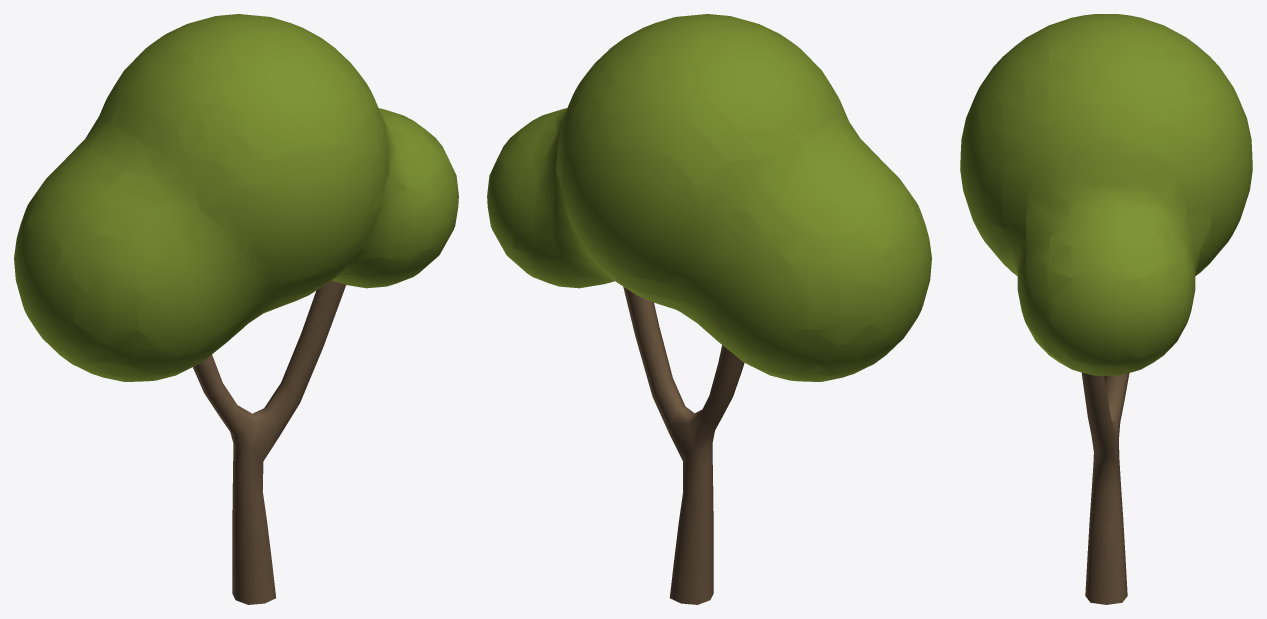
Rendered from tree3.glb.
3 views of the same model, side by side, from view 1: azimuth 30°, elevation 25°; view 2: azimuth 150°, elevation 25°; view 3: azimuth 270°, elevation 25° (orthographic).
Visible parts, largest first — view 1: Tree_3; view 2: Tree_3; view 3: Tree_3.
Boxes of the visible parts, bbox=[...] form: Tree_3: bbox=[14, 14, 458, 604]; Tree_3: bbox=[487, 14, 931, 604]; Tree_3: bbox=[960, 14, 1252, 604].
Size of the model in its own units: 4.27 by 5.59 by 2.64.
